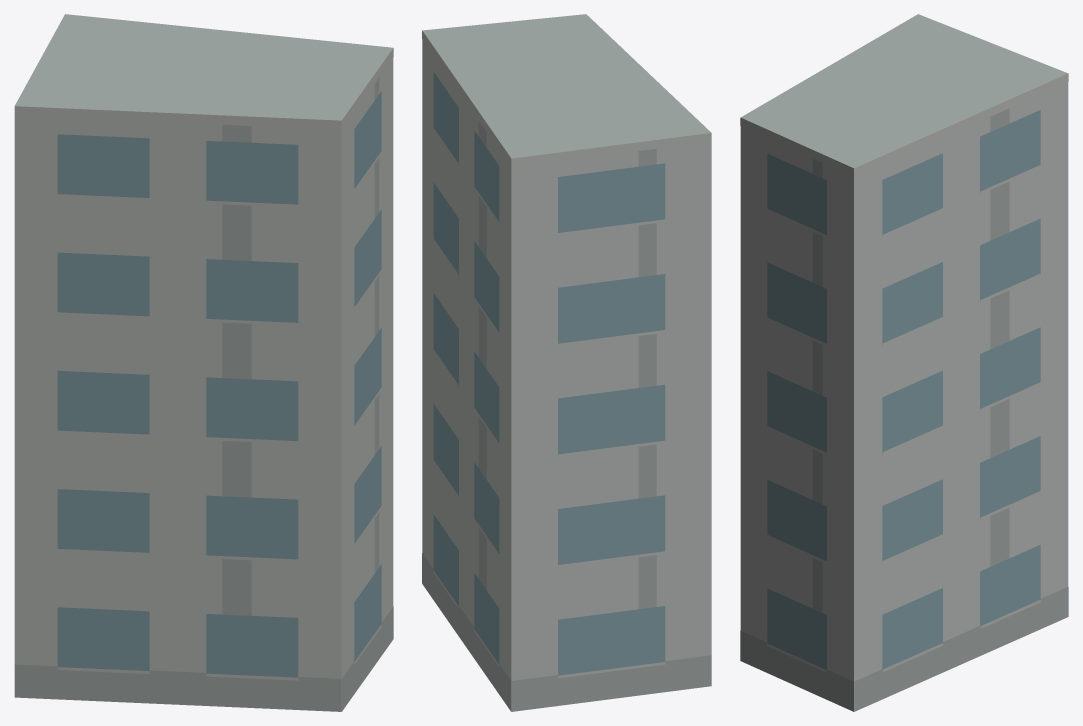
The model's file is survey-upis-32959353.glb.
The picture shows the model from 3 angles, left to right: view 1: azimuth 30°, elevation 25°; view 2: azimuth 150°, elevation 25°; view 3: azimuth 270°, elevation 25°; orthographic projection. The views are drawn at different scales.
Parts seen in each view (by area): view 1: survey-upis-32959353.tmp; view 2: survey-upis-32959353.tmp; view 3: survey-upis-32959353.tmp.
Part boxes in pixels (x1,y1,x2,y2): survey-upis-32959353.tmp: [14, 14, 393, 711]; survey-upis-32959353.tmp: [422, 14, 711, 711]; survey-upis-32959353.tmp: [740, 14, 1068, 711].
Bounding box in the file's own units: 9.27 × 15.2 × 8.32.
